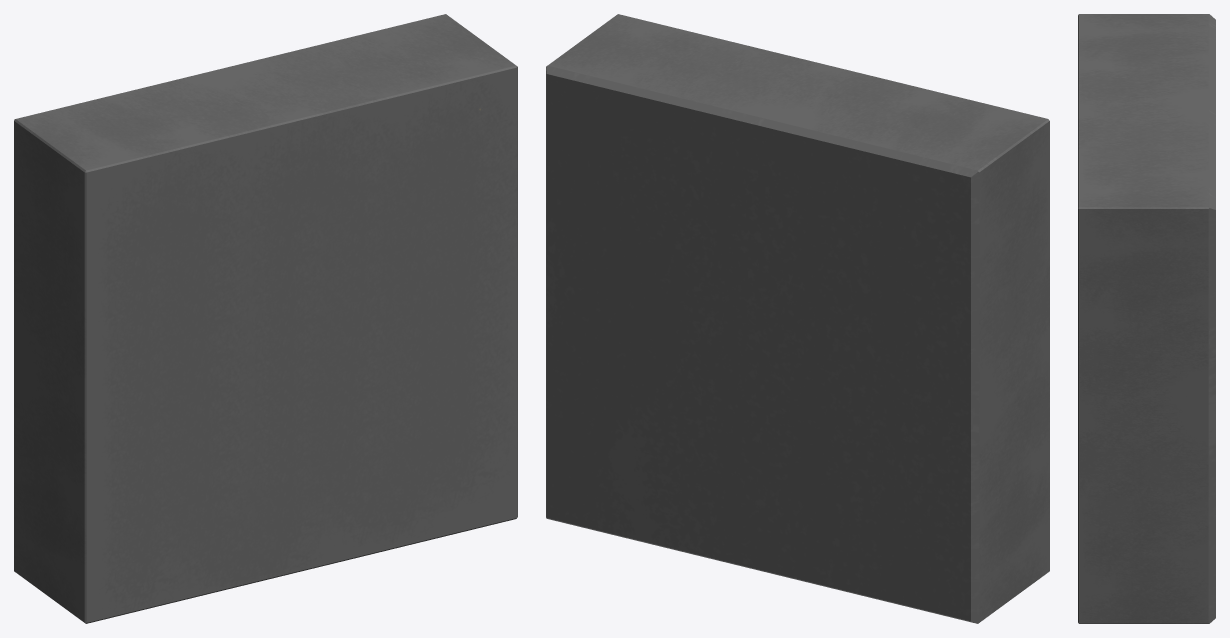
Rendered from Floor_04.fbx.
3 views of the same model, side by side, from view 1: azimuth 30°, elevation 25°; view 2: azimuth 150°, elevation 25°; view 3: azimuth 270°, elevation 25° (orthographic). The views are drawn at different scales.
Visible parts, largest first — view 1: Floor_04; view 2: Floor_04; view 3: Floor_04.
Part boxes in pixels (box(x1,y1,x2,y2)): Floor_04: box(14, 14, 517, 623); Floor_04: box(546, 14, 1049, 623); Floor_04: box(1078, 14, 1215, 623).
Size of the model in its own units: 5 by 5 by 1.5.
